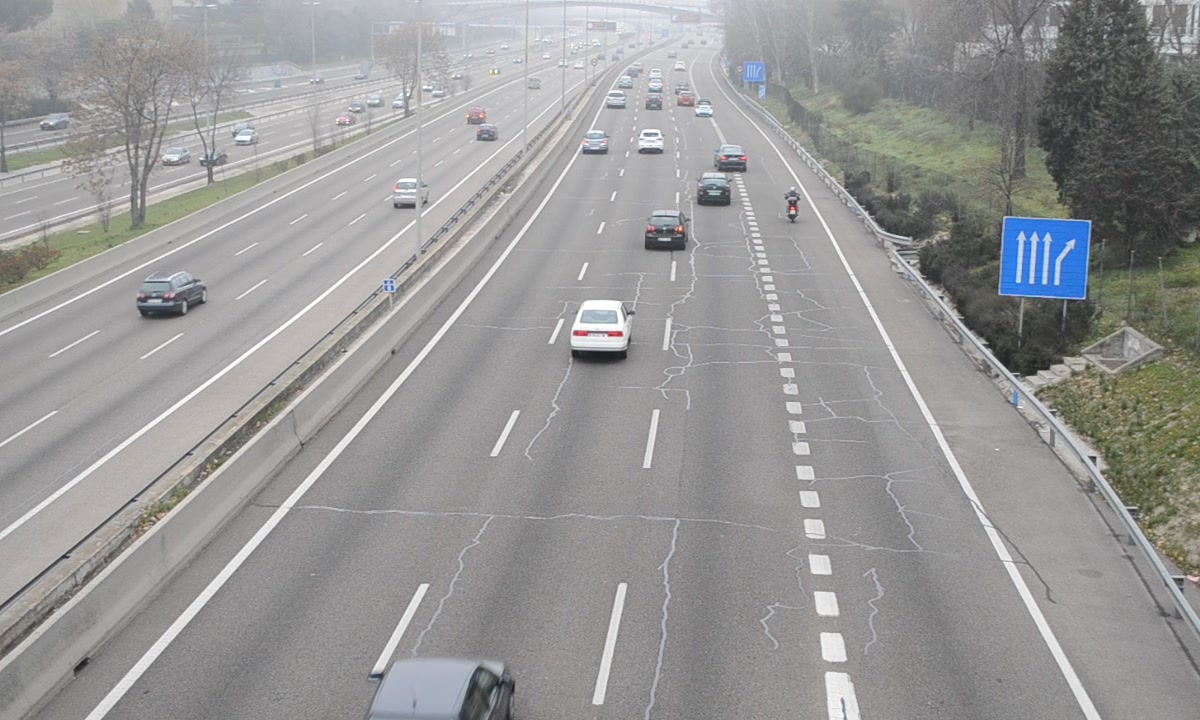car: (570, 300, 633, 354), (645, 211, 685, 248), (697, 172, 731, 206), (716, 144, 749, 172), (637, 128, 666, 154), (581, 130, 608, 155)
motorcycle: (785, 187, 803, 226)
